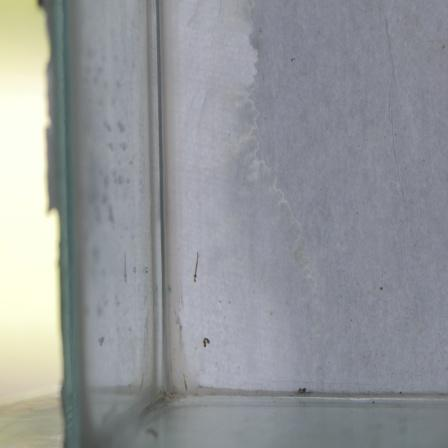Jentik-Nyamuk: (189, 249, 207, 289), (199, 333, 213, 355)
